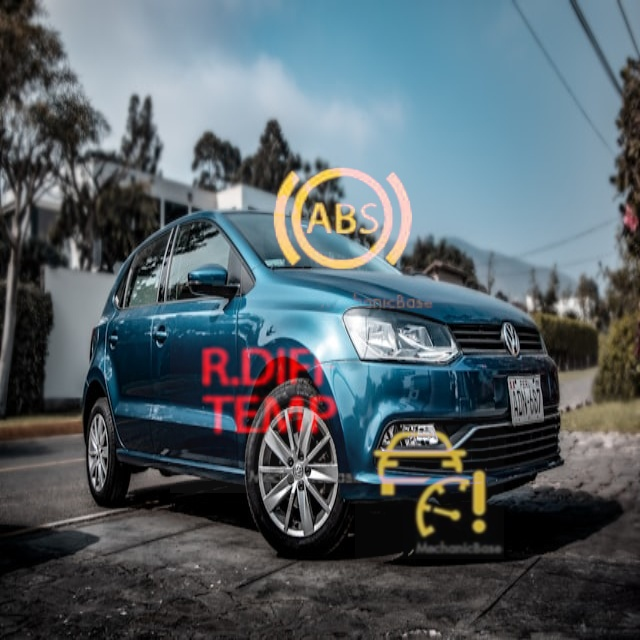symbol: (170, 293, 370, 493), (244, 122, 440, 318), (355, 410, 504, 559)
